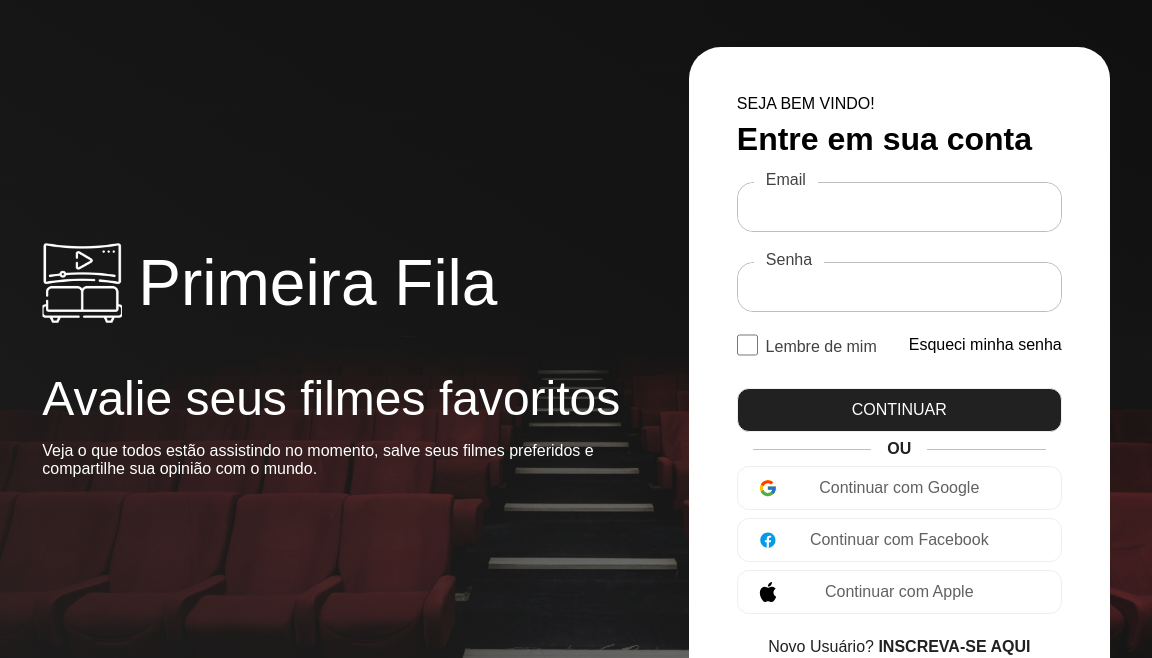
it: Movie Page › should rate movie
In the element showing "Email": (900, 207) left=737, top=182, right=1062, bottom=232, type "lima@gmail.com"
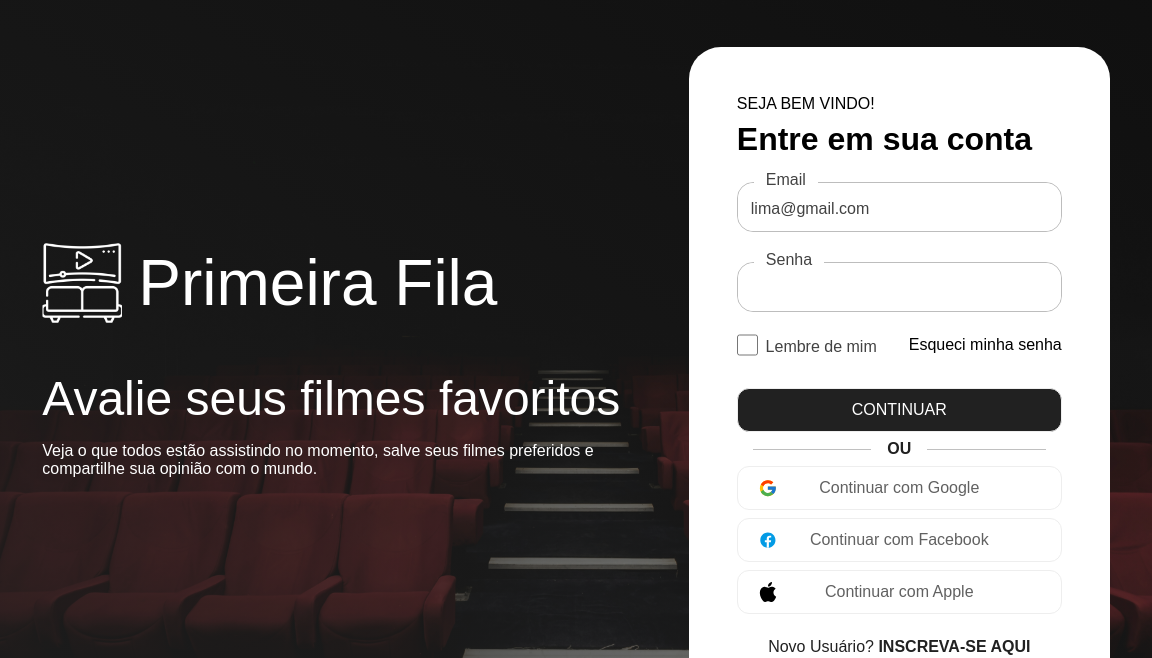
In the element showing "Senha": (900, 287) left=737, top=262, right=1062, bottom=312, type "123Seguro&"
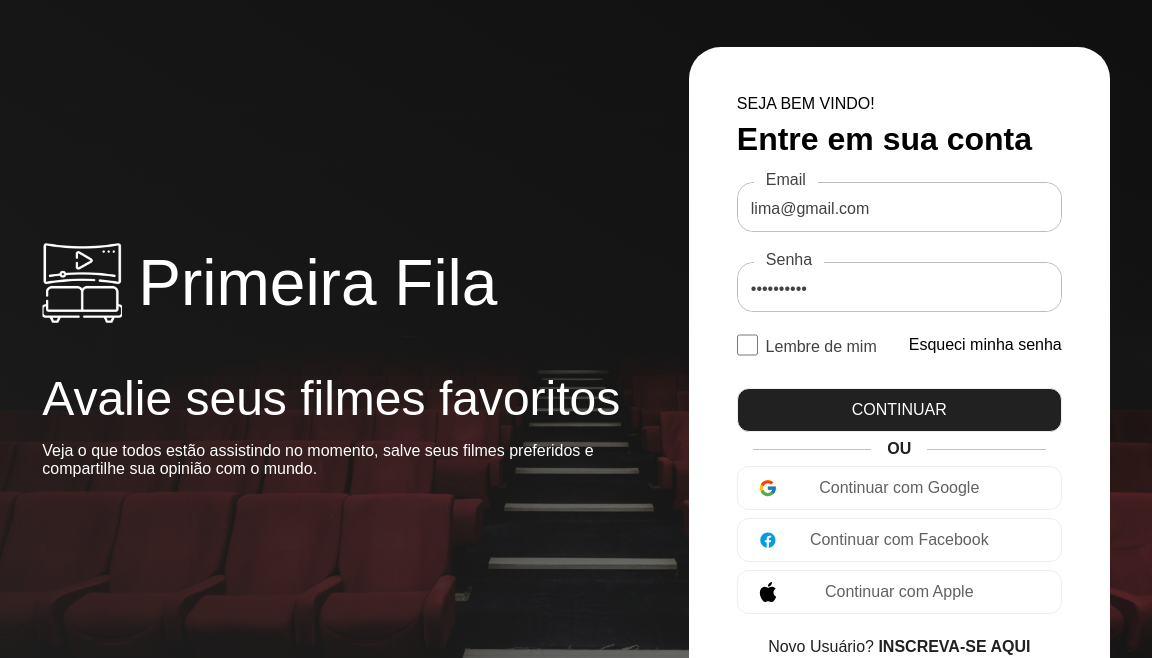
Click the button with class "submit-button": (900, 410) left=737, top=388, right=1062, bottom=432
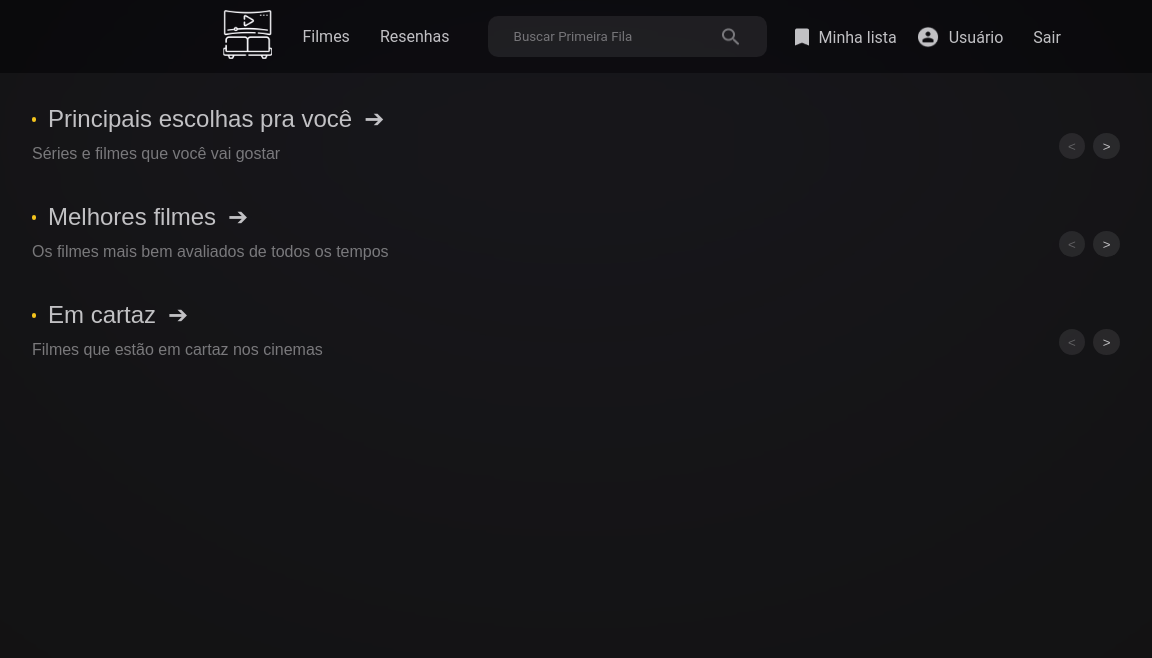
Open "http://localhost:5173/movies/278"
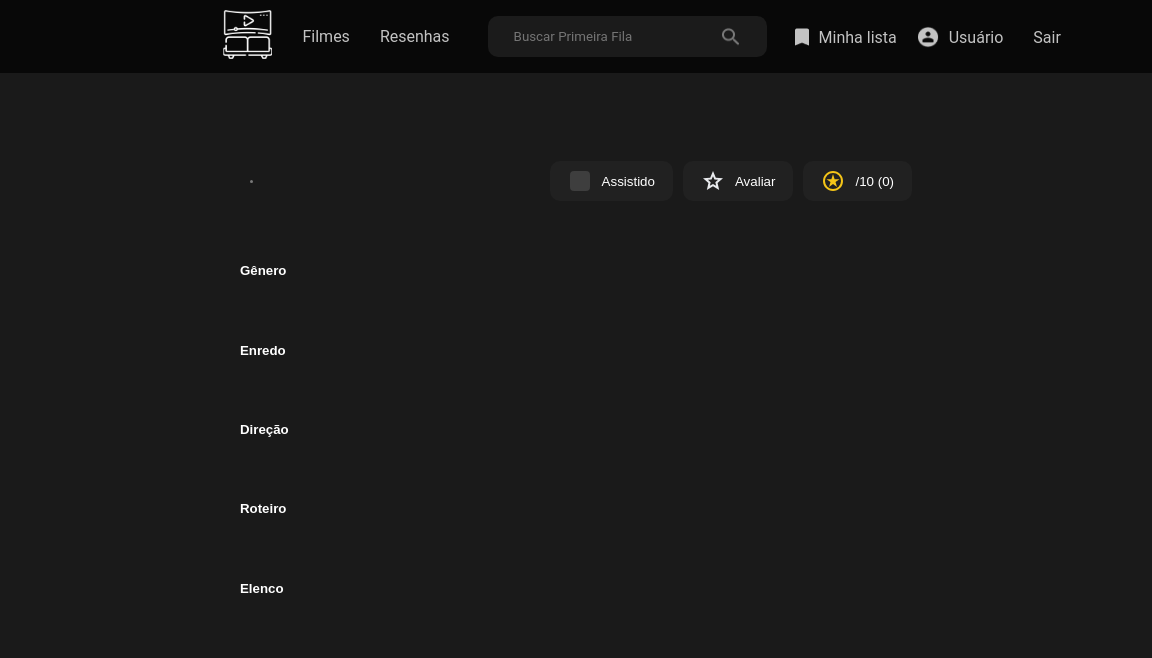
Click the button with class "rate": (739, 181) left=683, top=161, right=794, bottom=201
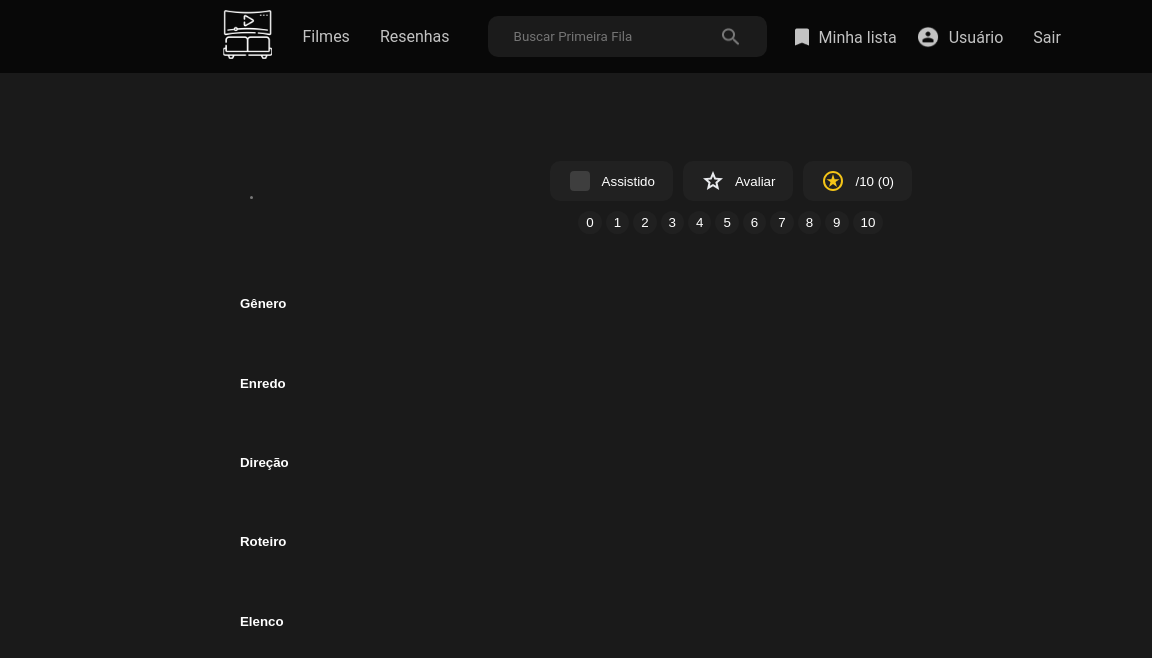
Result: the element with class "rating-buttons" is shown at left=578, top=211, right=883, bottom=234
Click the button with class "rating-button" showing "10": (869, 223) left=853, top=211, right=884, bottom=234
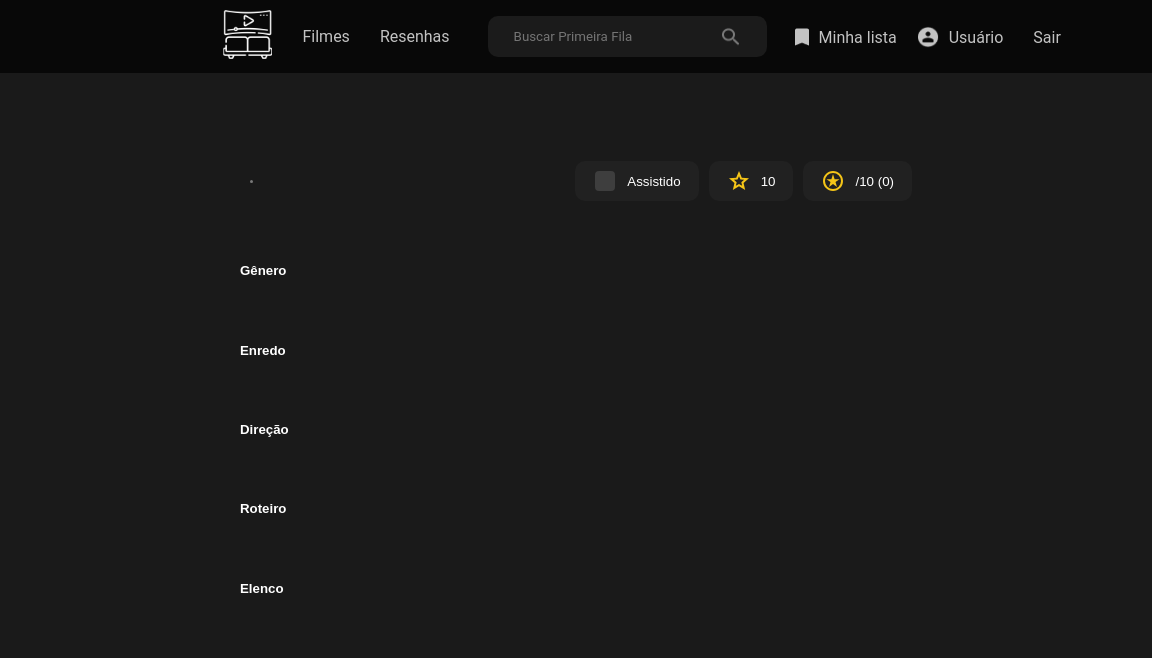
Result: the button "10" is shown at left=709, top=161, right=793, bottom=201
